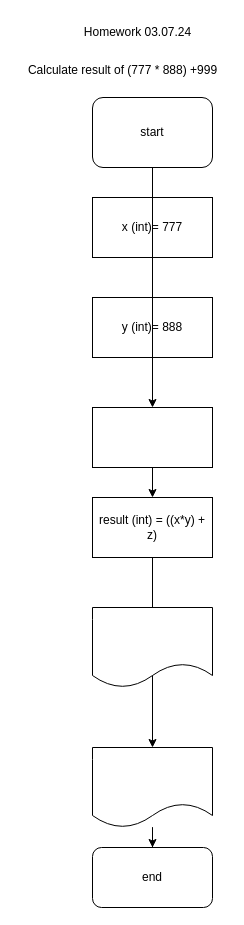
Some shapes in this 244 by 925 pixel diagram are drawn without their labels. The centre of each missing label's shape, as x and y in pixels:
print ((x,'x',y),'+', z, '='): the point at 152,647
print (result): the point at 152,787
z (int)= 999: the point at 152,437
